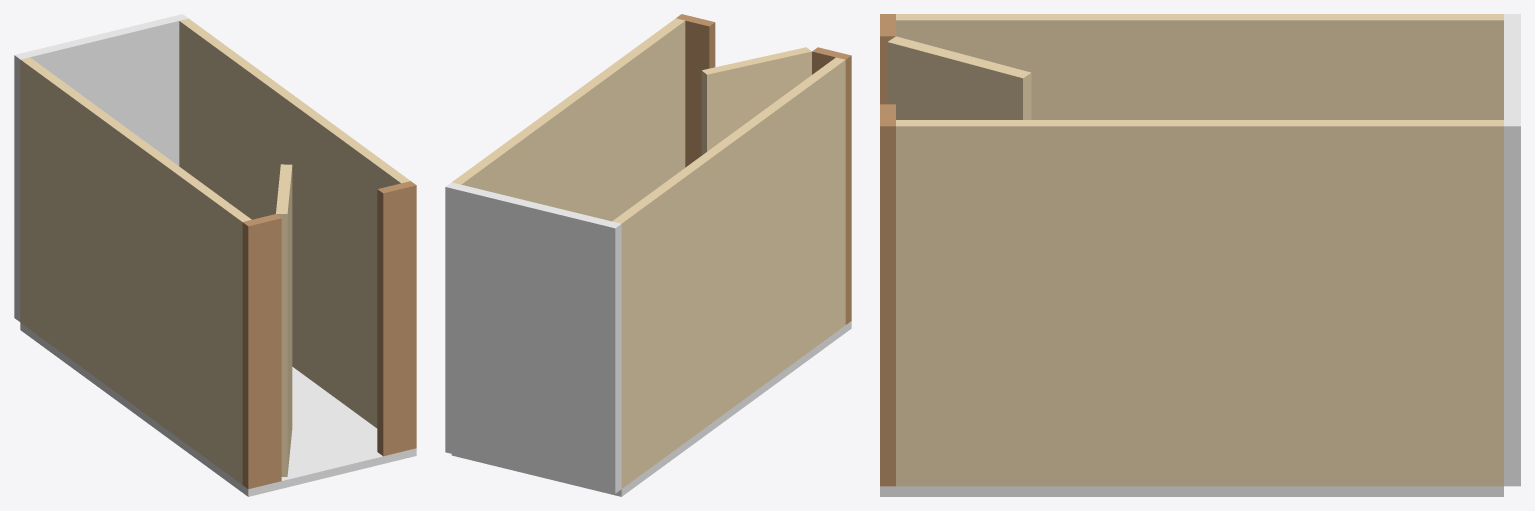
File: cubiclee.glb
3 views of the same model, side by side, from view 1: azimuth 30°, elevation 25°; view 2: azimuth 150°, elevation 25°; view 3: azimuth 270°, elevation 25° (orthographic). The views are drawn at different scales.
Parts seen in each view (by area): view 1: Mesh1 Group1 Model, Mesh2 Group2 Model, Mesh7 Group7 Model, Mesh4 Group4 Model, Mesh3 Group3 Model, Mesh6 Group6 Model, Mesh5 Group5 Model; view 2: Mesh1 Group1 Model, Mesh7 Group7 Model, Mesh2 Group2 Model, Mesh5 Group5 Model, Mesh4 Group4 Model, Mesh3 Group3 Model, Mesh6 Group6 Model; view 3: Mesh2 Group2 Model, Mesh1 Group1 Model, Mesh5 Group5 Model, Mesh7 Group7 Model, Mesh6 Group6 Model, Mesh4 Group4 Model, Mesh3 Group3 Model.
Boxes of the visible parts, bbox=[...] form: Mesh1 Group1 Model: bbox=[20, 57, 251, 484]; Mesh2 Group2 Model: bbox=[179, 18, 410, 428]; Mesh7 Group7 Model: bbox=[14, 14, 188, 321]; Mesh4 Group4 Model: bbox=[377, 181, 416, 456]; Mesh3 Group3 Model: bbox=[242, 214, 281, 489]; Mesh6 Group6 Model: bbox=[20, 322, 416, 496]; Mesh5 Group5 Model: bbox=[276, 164, 292, 476]; Mesh1 Group1 Model: bbox=[612, 57, 845, 488]; Mesh7 Group7 Model: bbox=[445, 182, 621, 493]; Mesh2 Group2 Model: bbox=[452, 18, 685, 221]; Mesh5 Group5 Model: bbox=[701, 47, 811, 155]; Mesh4 Group4 Model: bbox=[676, 14, 715, 167]; Mesh3 Group3 Model: bbox=[812, 47, 851, 324]; Mesh6 Group6 Model: bbox=[451, 321, 851, 496]; Mesh2 Group2 Model: bbox=[896, 120, 1503, 486]; Mesh1 Group1 Model: bbox=[896, 14, 1503, 119]; Mesh5 Group5 Model: bbox=[887, 36, 1031, 119]; Mesh7 Group7 Model: bbox=[1504, 14, 1520, 486]; Mesh6 Group6 Model: bbox=[880, 486, 1503, 496]; Mesh4 Group4 Model: bbox=[880, 104, 895, 486]; Mesh3 Group3 Model: bbox=[880, 14, 895, 104].
Bounding box in the file's own units: 1901 × 2920 × 4577.
